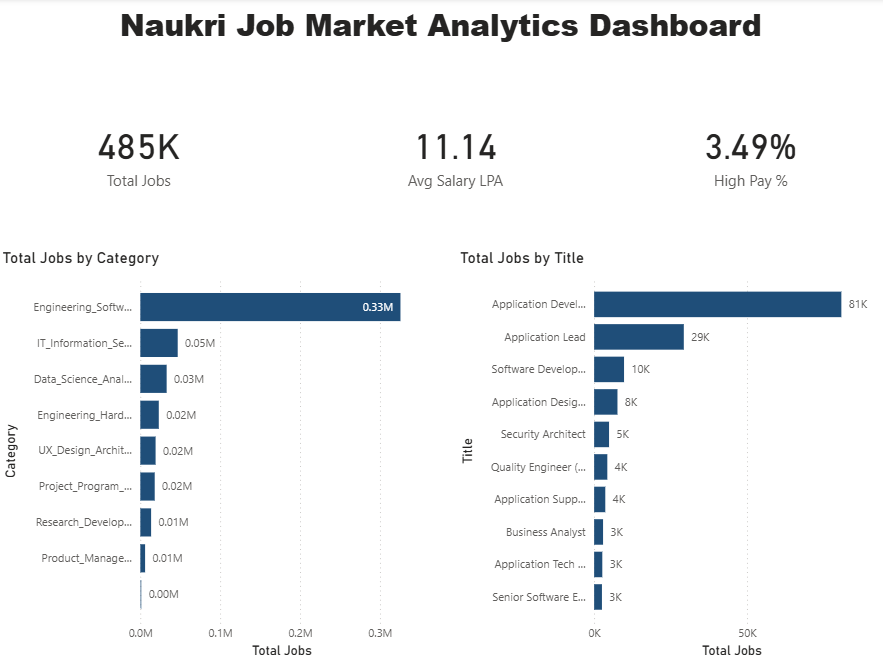

The dashboard page shown, as its layout file describes it:
{"tool":"powerbi","page":{"name":" Overview","canvas":[960,720],"ordinal":0},"visuals":[{"type":"card","fields":{"Values":["Naukri_Combined_AllCategories.Total Jobs"]},"box":[16,64,272,208],"z":0},{"type":"card","fields":{"Values":["Naukri_Combined_AllCategories.Avg Salary LPA"]},"box":[368,64,256,208],"z":1000},{"type":"barChart","fields":{"Category":["Naukri_Combined_AllCategories.Category"],"Y":["Naukri_Combined_AllCategories.Total Jobs"]},"box":[0,272,480,448],"z":2000},{"type":"barChart","fields":{"Category":["Naukri_Combined_AllCategories.Title"],"Y":["Naukri_Combined_AllCategories.Total Jobs"]},"box":[496,272,464,448],"z":3000},{"type":"card","fields":{"Values":["Naukri_Combined_AllCategories.High Pay %"]},"box":[688,64,256,208],"z":4000},{"type":"textbox","box":[96,0,768,64],"z":5000}]}

Visuals, with their boxes in screenshot pixels (x1, y1, x2, y2), scaled from the page's 960x720 canvas onto the 883x660 screenshot:
card - Naukri_Combined_AllCategories.Total Jobs: bbox=(15, 59, 265, 249)
card - Naukri_Combined_AllCategories.Avg Salary LPA: bbox=(338, 59, 574, 249)
barChart - Naukri_Combined_AllCategories.Category x Naukri_Combined_AllCategories.Total Jobs: bbox=(0, 249, 442, 659)
barChart - Naukri_Combined_AllCategories.Title x Naukri_Combined_AllCategories.Total Jobs: bbox=(456, 249, 882, 659)
card - Naukri_Combined_AllCategories.High Pay %: bbox=(633, 59, 868, 249)
textbox: bbox=(88, 0, 795, 59)
